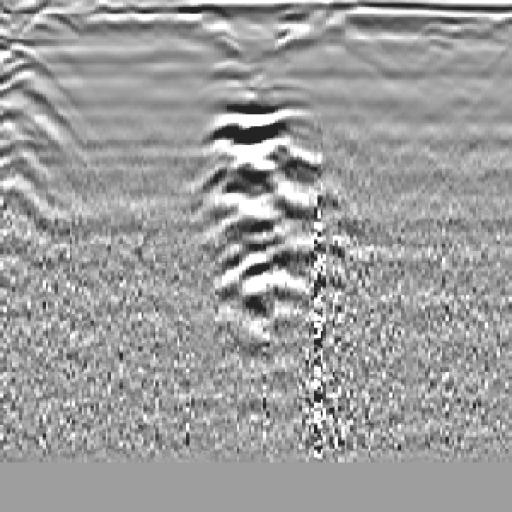metalic: (186, 99, 332, 363)
